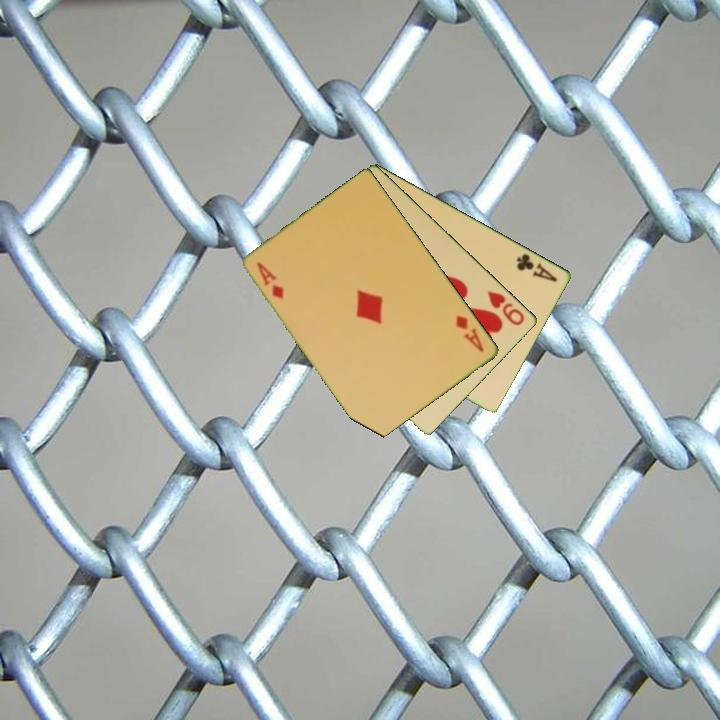9h: (484, 287, 528, 329)
Ac: (513, 250, 560, 285)
Ad: (453, 311, 487, 355), (253, 258, 287, 302)
